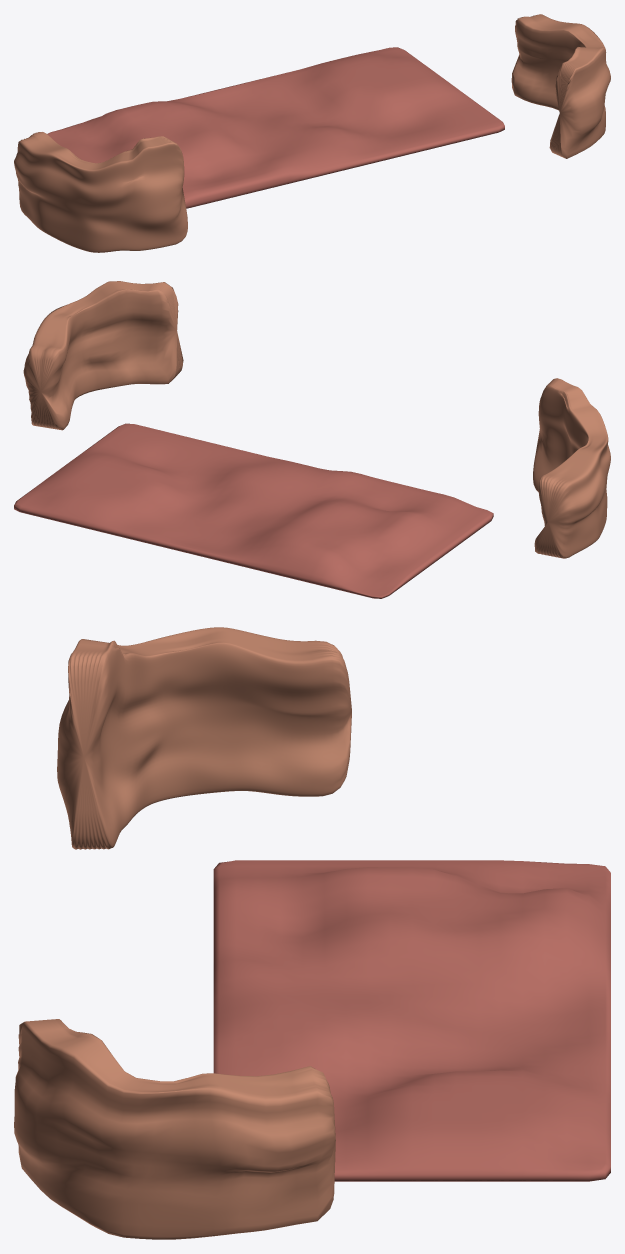
File: CanyonPack2.fbx
3 views of the same model, one above another, from view 1: azimuth 30°, elevation 25°; view 2: azimuth 150°, elevation 25°; view 3: azimuth 270°, elevation 25° (orthographic). The views are drawn at different scales.
Visible parts, largest first — view 1: CanyonGround1, CanyonTurnL, CanyonTurnR; view 2: CanyonGround1, CanyonTurnR, CanyonTurnL; view 3: CanyonGround1, CanyonTurnR, CanyonTurnL.
Part boxes in pixels (<box>): CanyonGround1: <box>47,47,504,208</box>; CanyonTurnL: <box>14,132,187,252</box>; CanyonTurnR: <box>511,14,610,158</box>; CanyonGround1: <box>14,423,493,598</box>; CanyonTurnR: <box>23,281,183,430</box>; CanyonTurnL: <box>533,378,610,558</box>; CanyonGround1: <box>213,860,610,1181</box>; CanyonTurnR: <box>14,1019,335,1239</box>; CanyonTurnL: <box>57,627,351,849</box>.
Bounding box in the file's own units: 1204 × 232 × 632.
